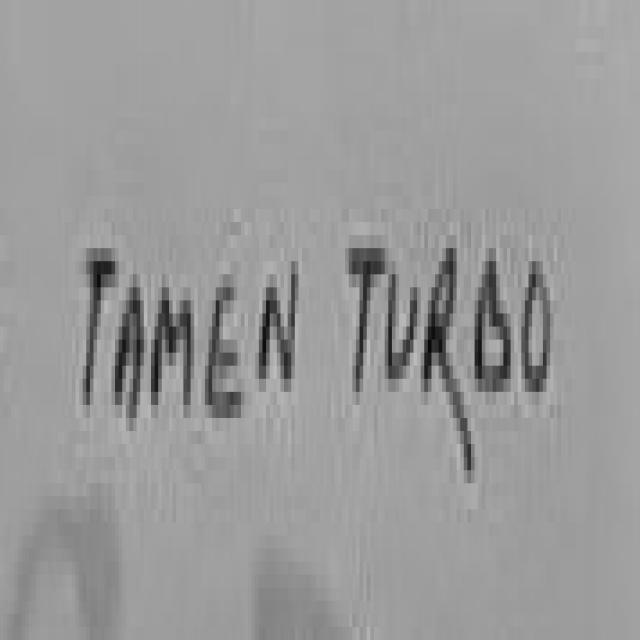A: (111, 253, 145, 458)
B: (471, 203, 514, 427)
E: (202, 234, 250, 437)
M: (147, 228, 200, 451)
N: (248, 194, 311, 422)
O: (520, 197, 558, 420)
R: (419, 204, 476, 512)
T: (72, 197, 114, 439), (342, 196, 387, 418)
U: (381, 228, 422, 396)
